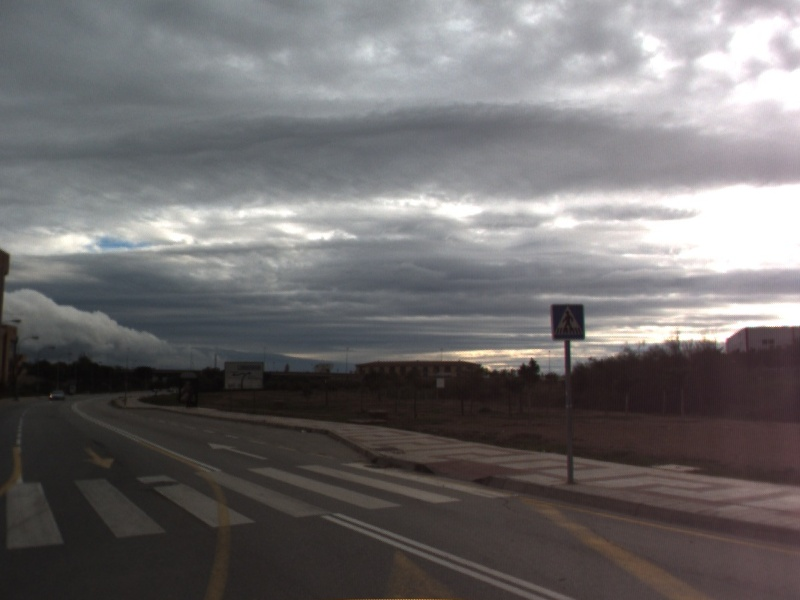STRAIGHT: (206, 440, 270, 462)
